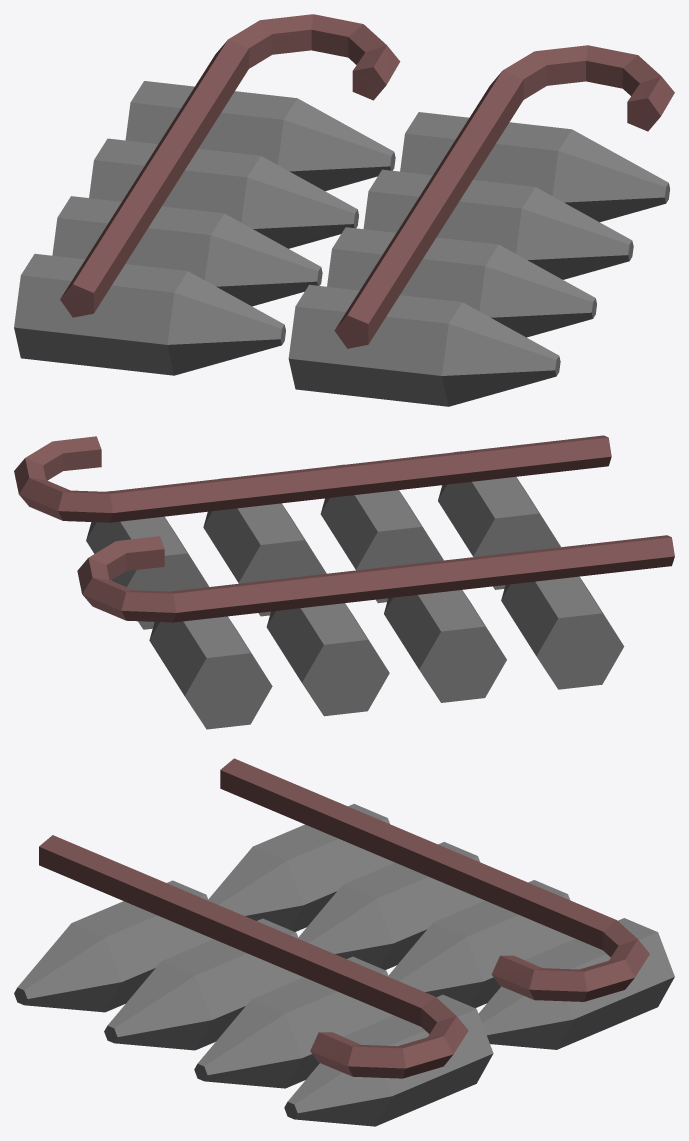
The model's file is ce_ammo_gae_sabot_std_b.obj.
3 views of the same model, one above another, from view 1: azimuth 30°, elevation 25°; view 2: azimuth 150°, elevation 25°; view 3: azimuth 270°, elevation 25° (orthographic). The views are drawn at different scales.
Parts seen in each view (by area): view 1: ce_ammo_gae_sabot_std_b_0, ce_ammo_gae_sabot_std_b_5, ce_ammo_gae_sabot_std_b_4, ce_ammo_gae_sabot_std_b_9, ce_ammo_gae_sabot_std_b_7, ce_ammo_gae_sabot_std_b_8, ce_ammo_gae_sabot_std_b_6, ce_ammo_gae_sabot_std_b_1, ce_ammo_gae_sabot_std_b_3, ce_ammo_gae_sabot_std_b_2; view 2: ce_ammo_gae_sabot_std_b_9, ce_ammo_gae_sabot_std_b_4, ce_ammo_gae_sabot_std_b_3, ce_ammo_gae_sabot_std_b_1, ce_ammo_gae_sabot_std_b_2, ce_ammo_gae_sabot_std_b_0, ce_ammo_gae_sabot_std_b_7, ce_ammo_gae_sabot_std_b_6, ce_ammo_gae_sabot_std_b_5, ce_ammo_gae_sabot_std_b_8; view 3: ce_ammo_gae_sabot_std_b_4, ce_ammo_gae_sabot_std_b_9, ce_ammo_gae_sabot_std_b_5, ce_ammo_gae_sabot_std_b_6, ce_ammo_gae_sabot_std_b_7, ce_ammo_gae_sabot_std_b_8, ce_ammo_gae_sabot_std_b_3, ce_ammo_gae_sabot_std_b_1, ce_ammo_gae_sabot_std_b_0, ce_ammo_gae_sabot_std_b_2.
Part boxes in pixels (x1=…): ce_ammo_gae_sabot_std_b_0: x1=14, y1=253, x2=285, y2=375; ce_ammo_gae_sabot_std_b_5: x1=288, y1=284, x2=560, y2=406; ce_ammo_gae_sabot_std_b_4: x1=60, y1=14, x2=400, y2=317; ce_ammo_gae_sabot_std_b_9: x1=334, y1=45, x2=674, y2=348; ce_ammo_gae_sabot_std_b_7: x1=363, y1=169, x2=633, y2=279; ce_ammo_gae_sabot_std_b_8: x1=400, y1=112, x2=669, y2=222; ce_ammo_gae_sabot_std_b_6: x1=327, y1=227, x2=596, y2=337; ce_ammo_gae_sabot_std_b_1: x1=52, y1=196, x2=322, y2=306; ce_ammo_gae_sabot_std_b_3: x1=125, y1=81, x2=395, y2=191; ce_ammo_gae_sabot_std_b_2: x1=89, y1=138, x2=358, y2=248; ce_ammo_gae_sabot_std_b_9: x1=14, y1=435, x2=611, y2=522; ce_ammo_gae_sabot_std_b_4: x1=77, y1=535, x2=674, y2=622; ce_ammo_gae_sabot_std_b_3: x1=149, y1=591, x2=272, y2=729; ce_ammo_gae_sabot_std_b_1: x1=384, y1=564, x2=506, y2=702; ce_ammo_gae_sabot_std_b_2: x1=266, y1=577, x2=389, y2=716; ce_ammo_gae_sabot_std_b_0: x1=501, y1=551, x2=624, y2=689; ce_ammo_gae_sabot_std_b_7: x1=203, y1=477, x2=326, y2=616; ce_ammo_gae_sabot_std_b_6: x1=320, y1=464, x2=443, y2=603; ce_ammo_gae_sabot_std_b_5: x1=438, y1=451, x2=560, y2=589; ce_ammo_gae_sabot_std_b_8: x1=86, y1=491, x2=208, y2=629; ce_ammo_gae_sabot_std_b_4: x1=220, y1=758, x2=649, y2=1001; ce_ammo_gae_sabot_std_b_9: x1=39, y1=835, x2=468, y2=1078; ce_ammo_gae_sabot_std_b_5: x1=14, y1=880, x2=213, y2=1012; ce_ammo_gae_sabot_std_b_6: x1=104, y1=918, x2=303, y2=1050; ce_ammo_gae_sabot_std_b_7: x1=194, y1=956, x2=393, y2=1088; ce_ammo_gae_sabot_std_b_8: x1=284, y1=994, x2=493, y2=1126; ce_ammo_gae_sabot_std_b_3: x1=478, y1=918, x2=674, y2=1049; ce_ammo_gae_sabot_std_b_1: x1=298, y1=842, x2=484, y2=969; ce_ammo_gae_sabot_std_b_0: x1=208, y1=804, x2=394, y2=931; ce_ammo_gae_sabot_std_b_2: x1=388, y1=880, x2=574, y2=1008.
Size of the model in its own units: 0.7989 by 0.1422 by 0.7473.
